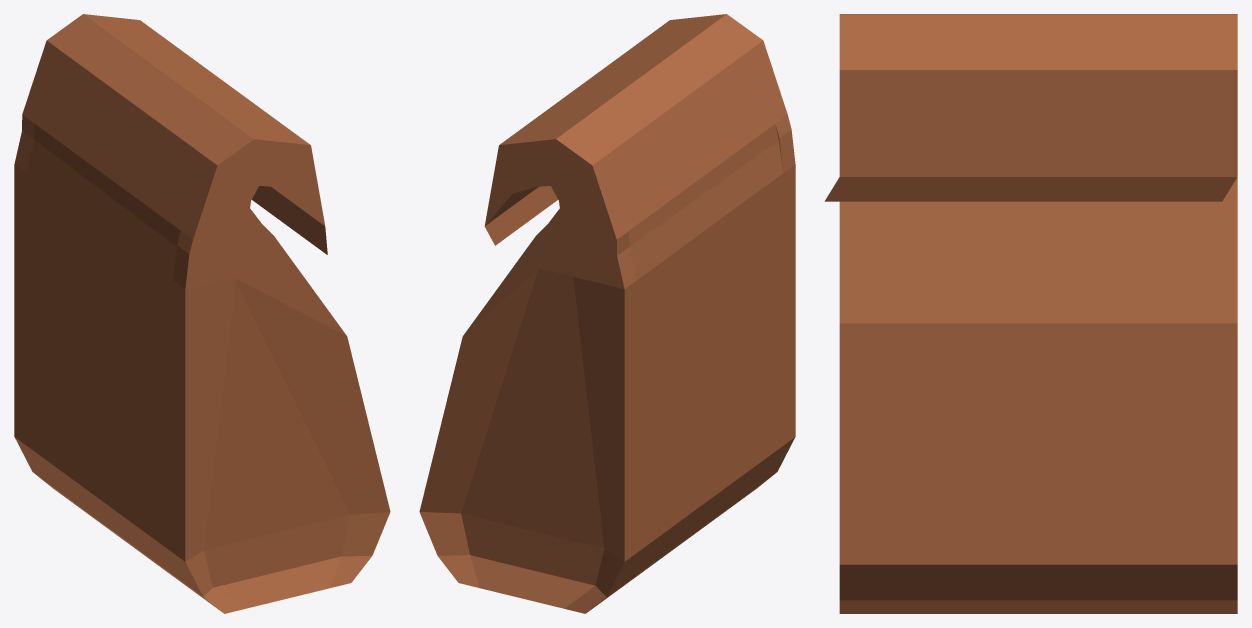
Rendered from drug_bag.fbx.
3 views of the same model, side by side, from view 1: azimuth 30°, elevation 25°; view 2: azimuth 150°, elevation 25°; view 3: azimuth 270°, elevation 25° (orthographic). The views are drawn at different scales.
Visible parts, largest first — view 1: Plane; view 2: Plane; view 3: Plane.
Boxes of the visible parts, x1,y1,x2,y2 form: Plane: (14, 14, 390, 613); Plane: (419, 14, 795, 613); Plane: (824, 14, 1237, 613).
Size of the model in its own units: 97.02 by 211 by 145.
